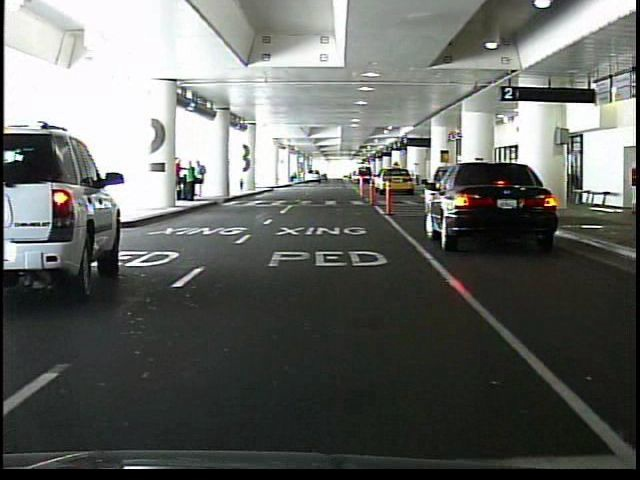person: (184, 160, 197, 202), (627, 162, 637, 216), (196, 160, 208, 199)
